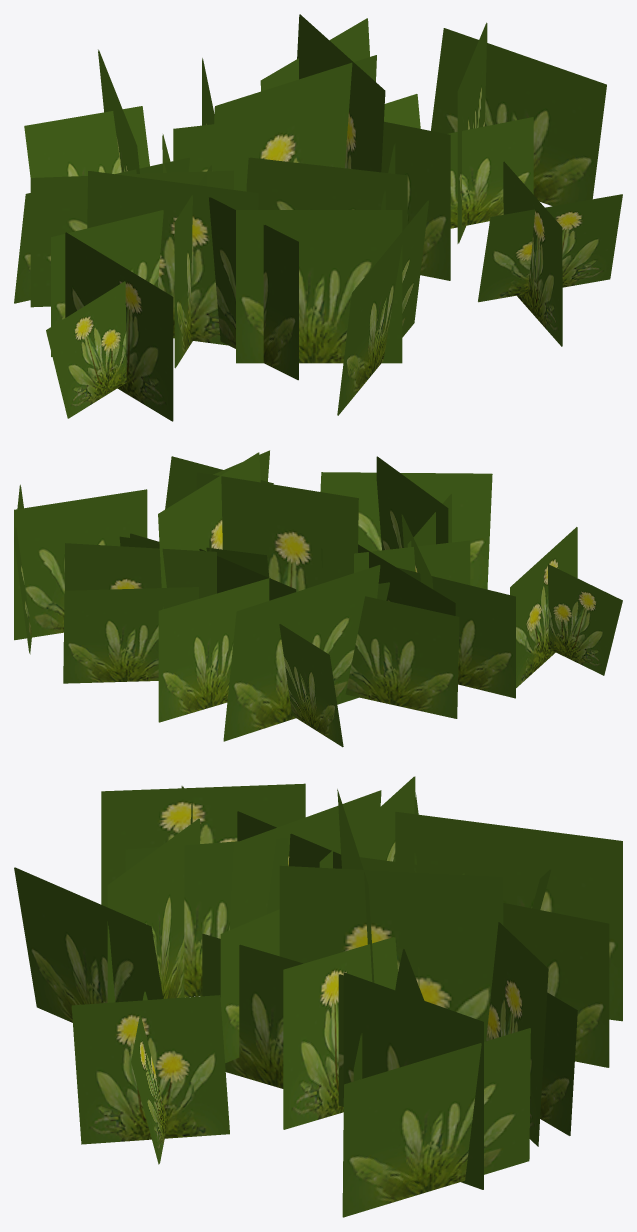
The model's file is DN_grass15b.FBX.
3 renders of one model, top to bottom at view 1: azimuth 30°, elevation 25°; view 2: azimuth 150°, elevation 25°; view 3: azimuth 270°, elevation 25°, orthographic. The views are drawn at different scales.
Parts seen in each view (by area): view 1: DN_grass15b; view 2: DN_grass15b; view 3: DN_grass15b.
Part boxes in pixels (x1,y1,x2,y2): DN_grass15b: (14,14,622,421); DN_grass15b: (14,450,622,747); DN_grass15b: (14,776,622,1217).
Size of the model in its own units: 245 by 78.02 by 185.
